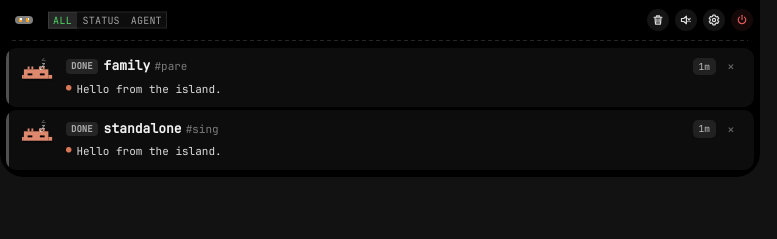
notch panel surfaces › marks only the captured idle families that still match at confirmation time
Later steps or results of the test are not shown.
Click the button named "Remove idle sessions": [658, 20] box left=646, top=8, right=670, bottom=32
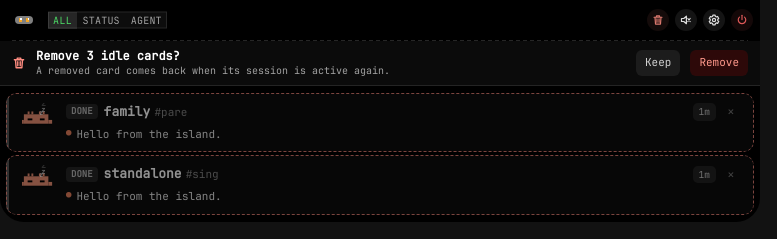
Expected: the button named "Remove idle sessions" is expanded, left=646, top=8, right=670, bottom=32
Expected: the text "Remove 3 idle cards?" is shown, left=36, top=48, right=180, bottom=64
